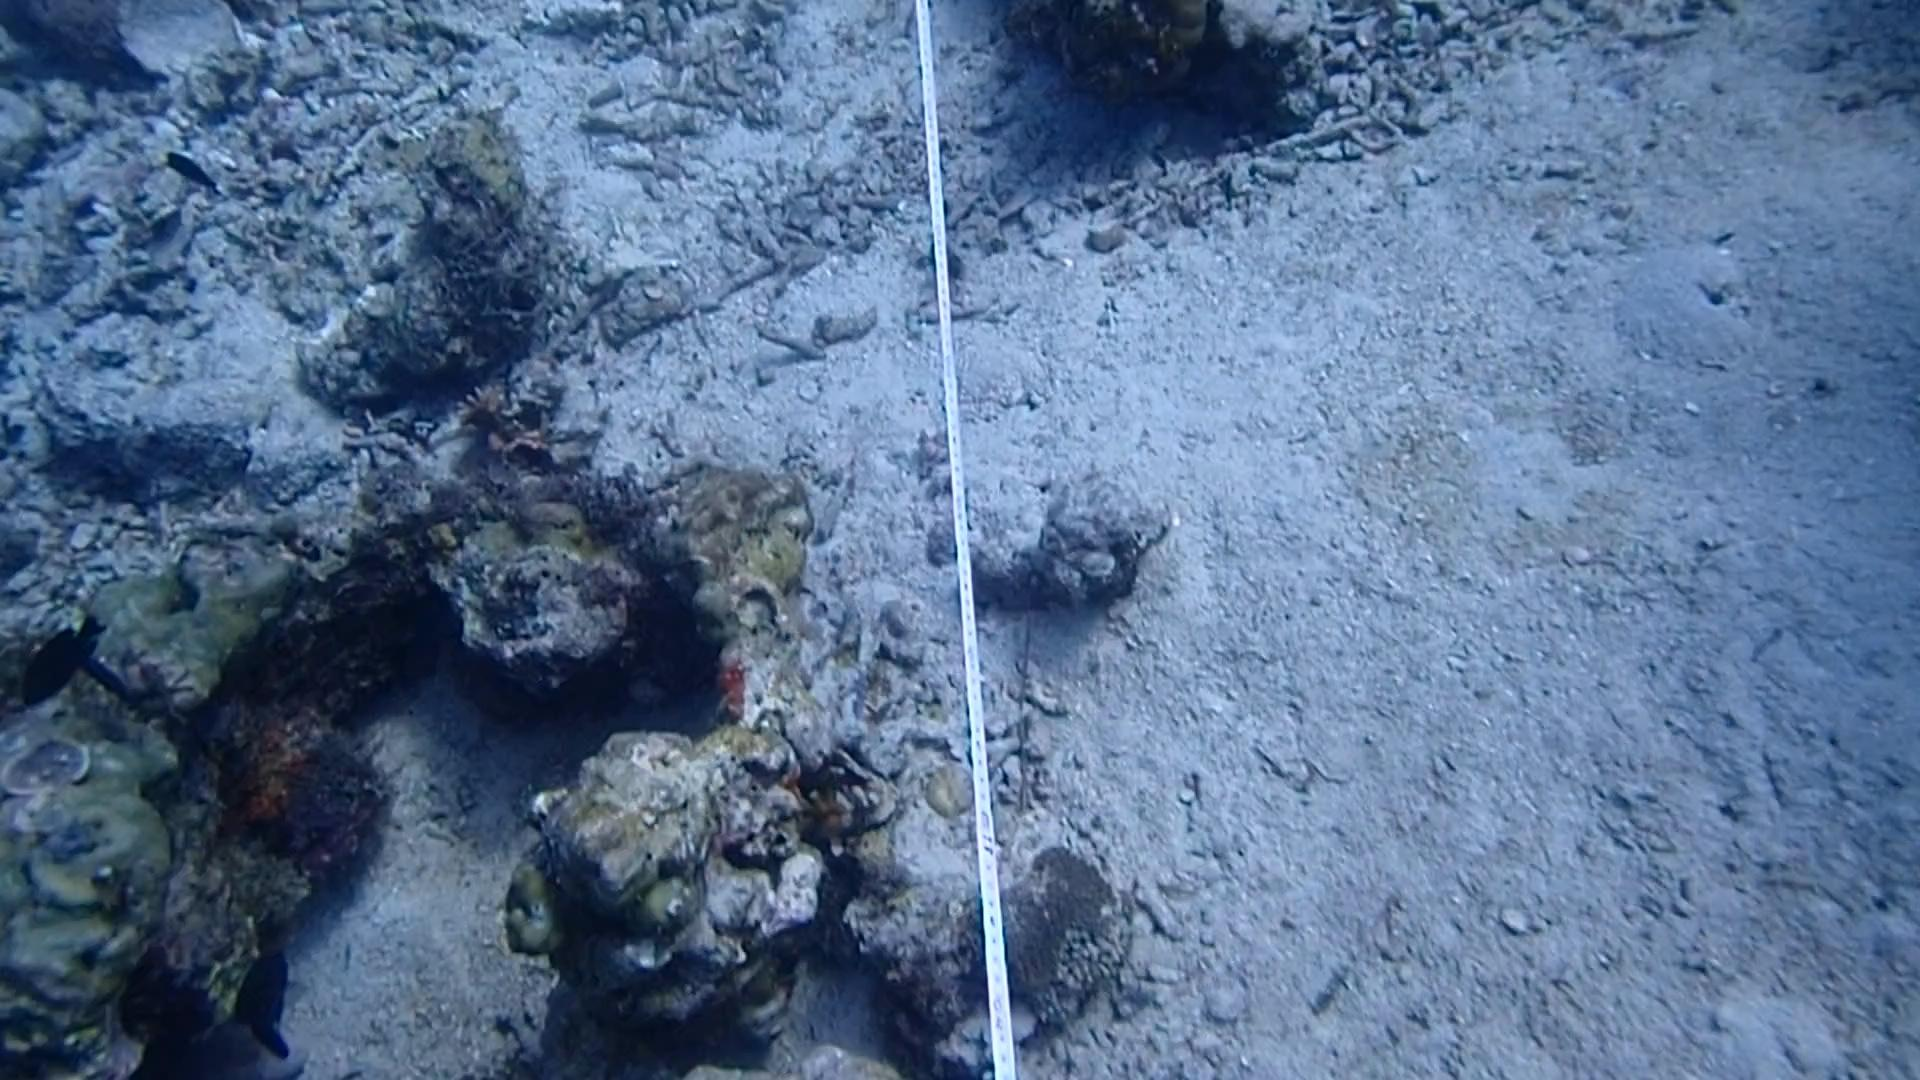Dark Fish: (5, 597, 119, 717), (235, 913, 297, 1023), (157, 141, 228, 200)
